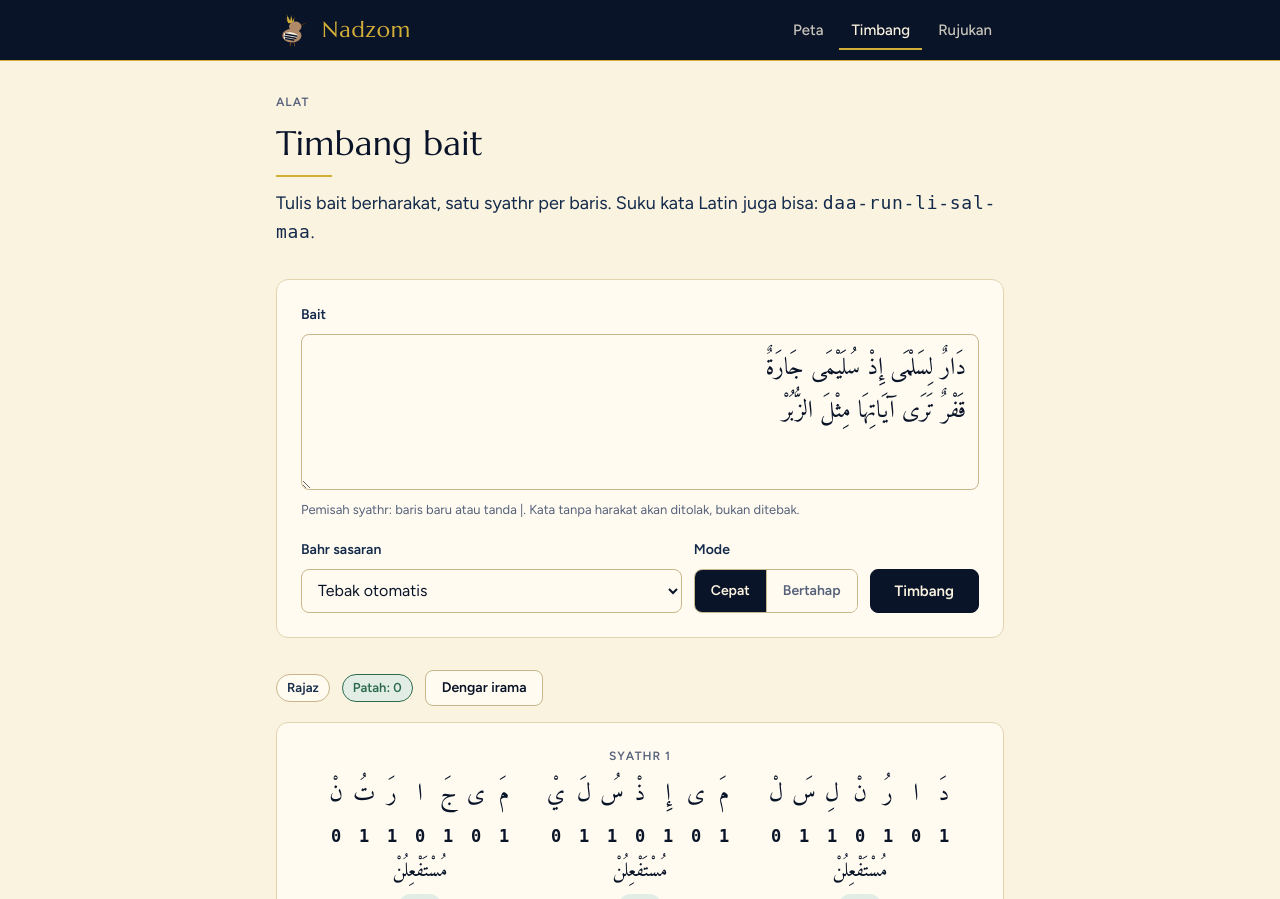
Scenario: alat timbang › kata tanpa harakat ditolak dengan nama katanya
Replace the text in the text box labelled "Bait" with "دار لِسَلْمَى" at point(640, 412), box [301,334,979,490]
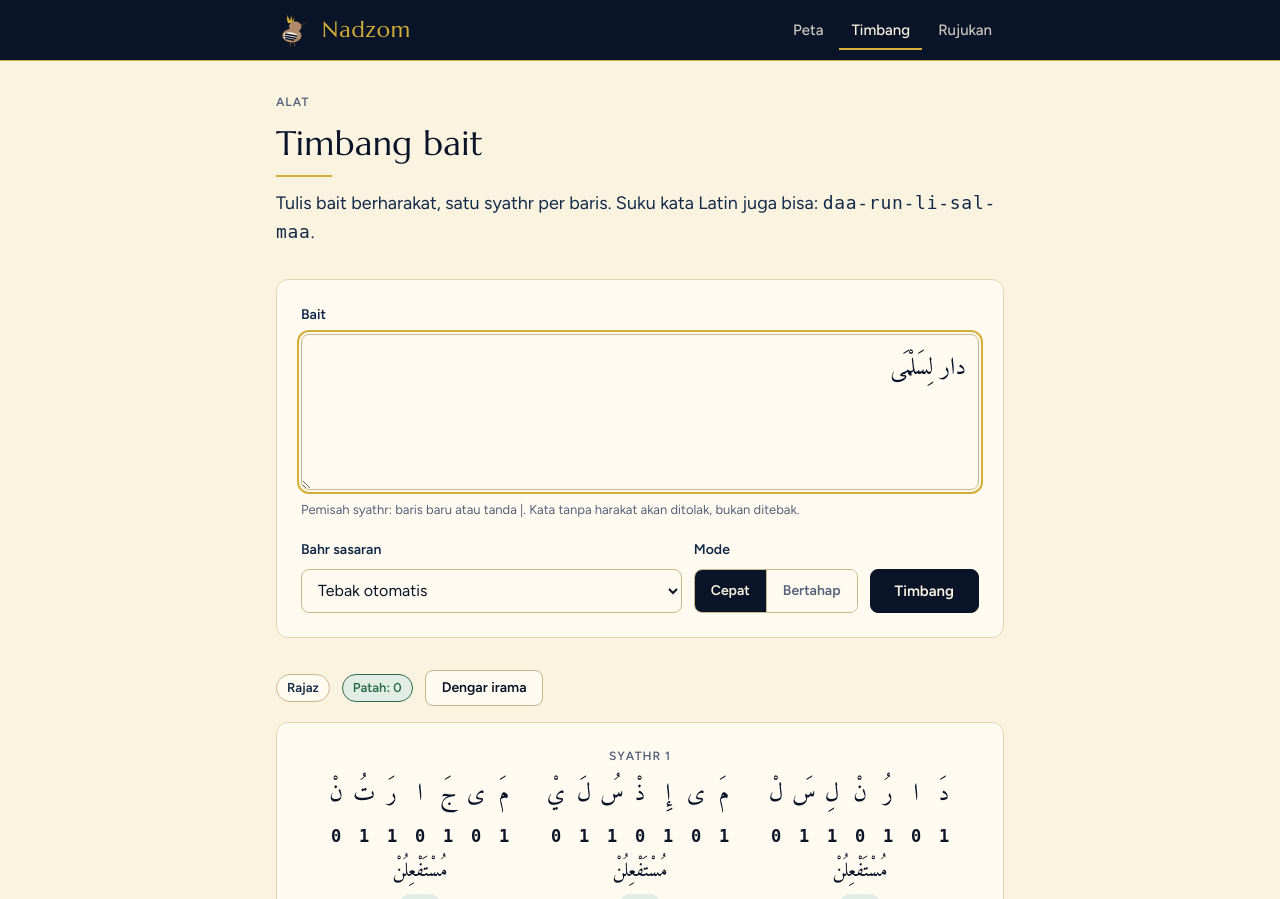
Click the button "Timbang" at point(924, 591), box [870,569,979,613]
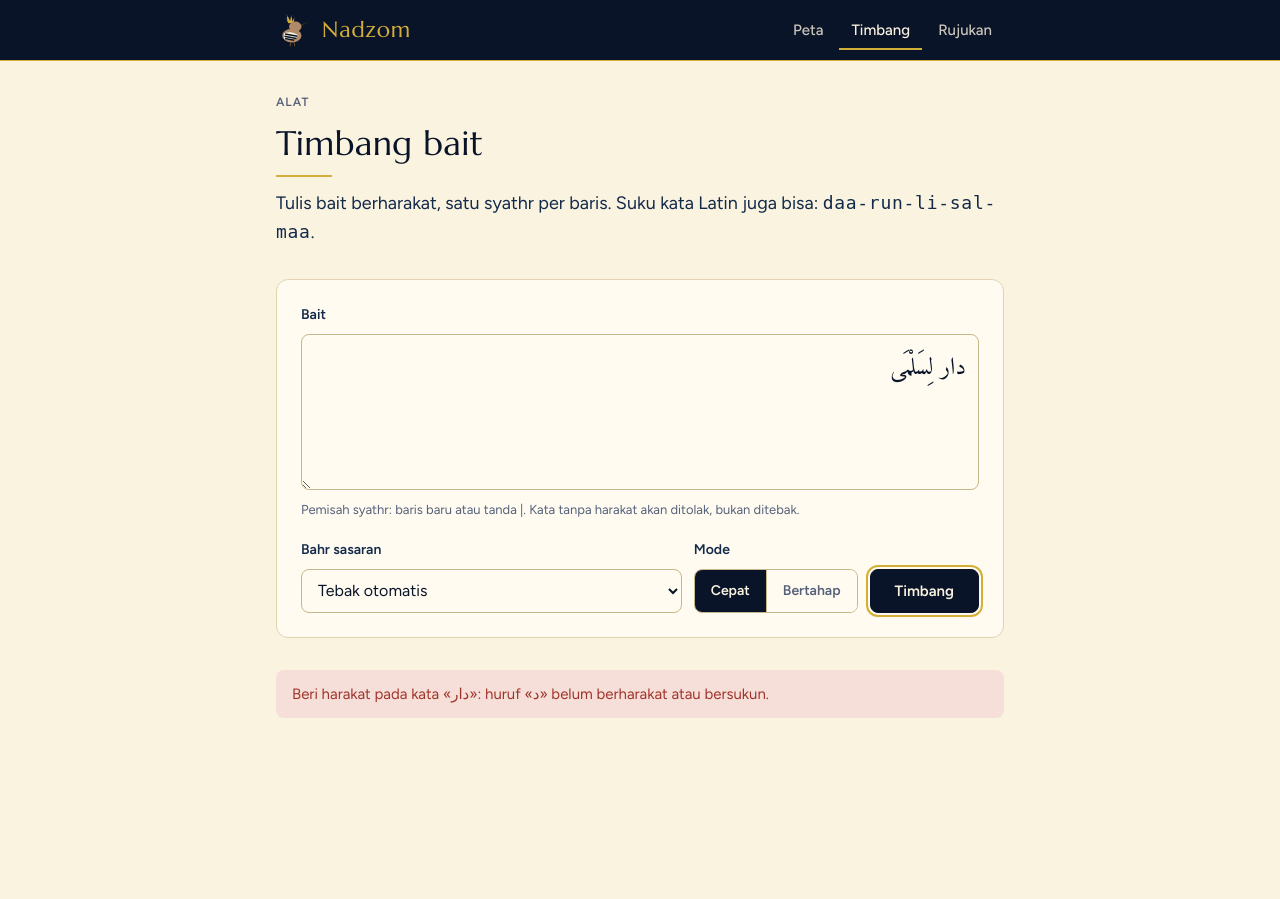
Check: the text "Beri harakat pada kata «دار»" is shown, box [292,685,769,703]
